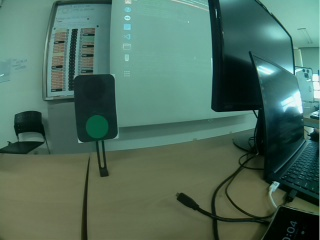green_light: (73, 77, 117, 141)
